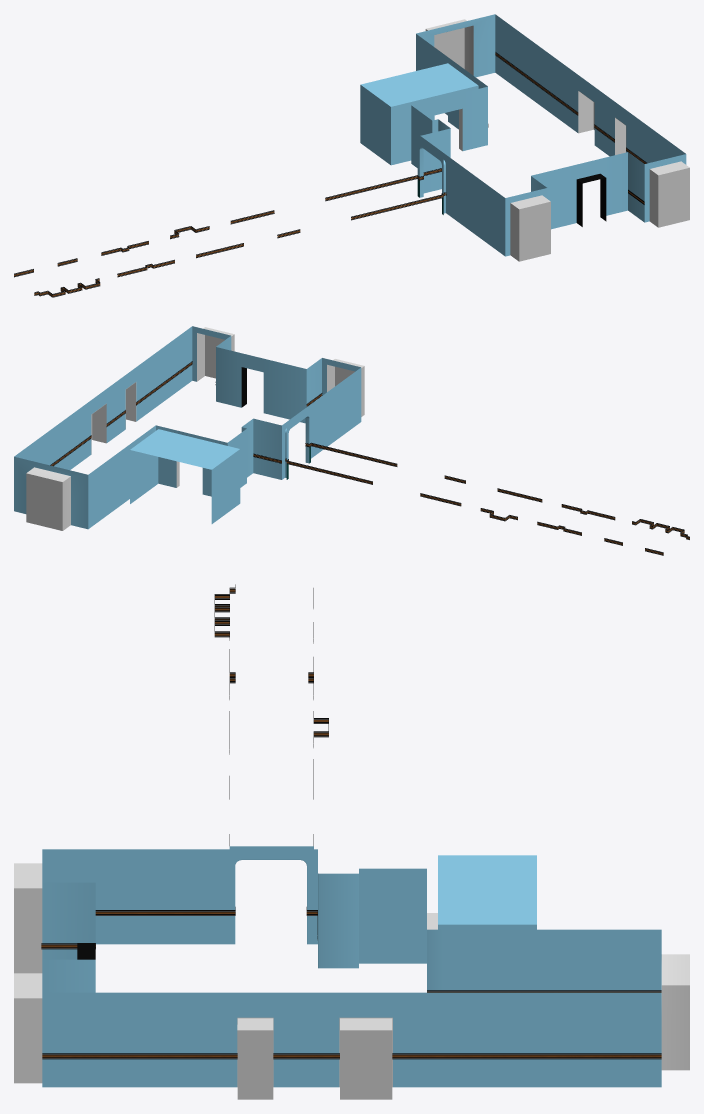
Rendered from otboynik_i_stena.FBX.
3 views of the same model, one above another, from view 1: azimuth 30°, elevation 25°; view 2: azimuth 150°, elevation 25°; view 3: azimuth 270°, elevation 25° (orthographic). The views are drawn at different scales.
Parts seen in each view (by area): view 1: walls_reception, Object011; view 2: walls_reception, Object011; view 3: walls_reception, Object011.
Boxes of the visible parts, box(x1,y1,x2,y2) form: walls_reception: box(360, 14, 689, 261); Object011: box(14, 52, 647, 297); walls_reception: box(14, 326, 364, 530); Object011: box(50, 361, 689, 555); walls_reception: box(14, 846, 689, 1099); Object011: box(41, 584, 661, 1059).
Size of the model in its own units: 1203 by 111 by 715.
Materials: 8 (1 with a texture image).
